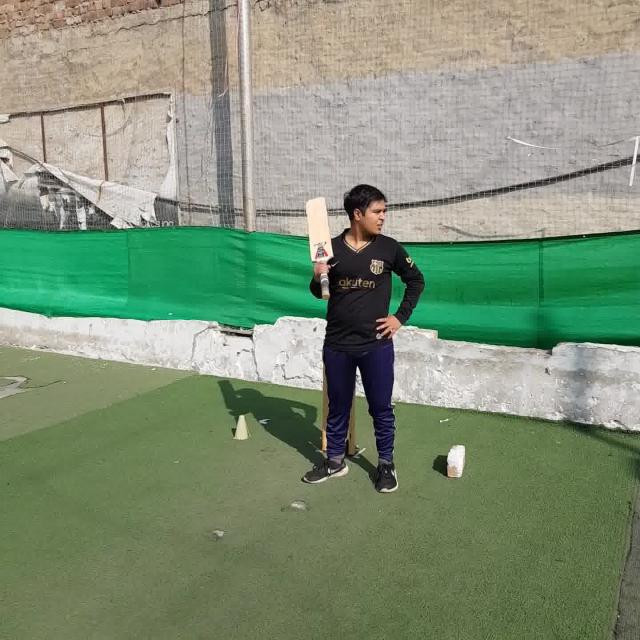bat: (307, 198, 332, 298)
